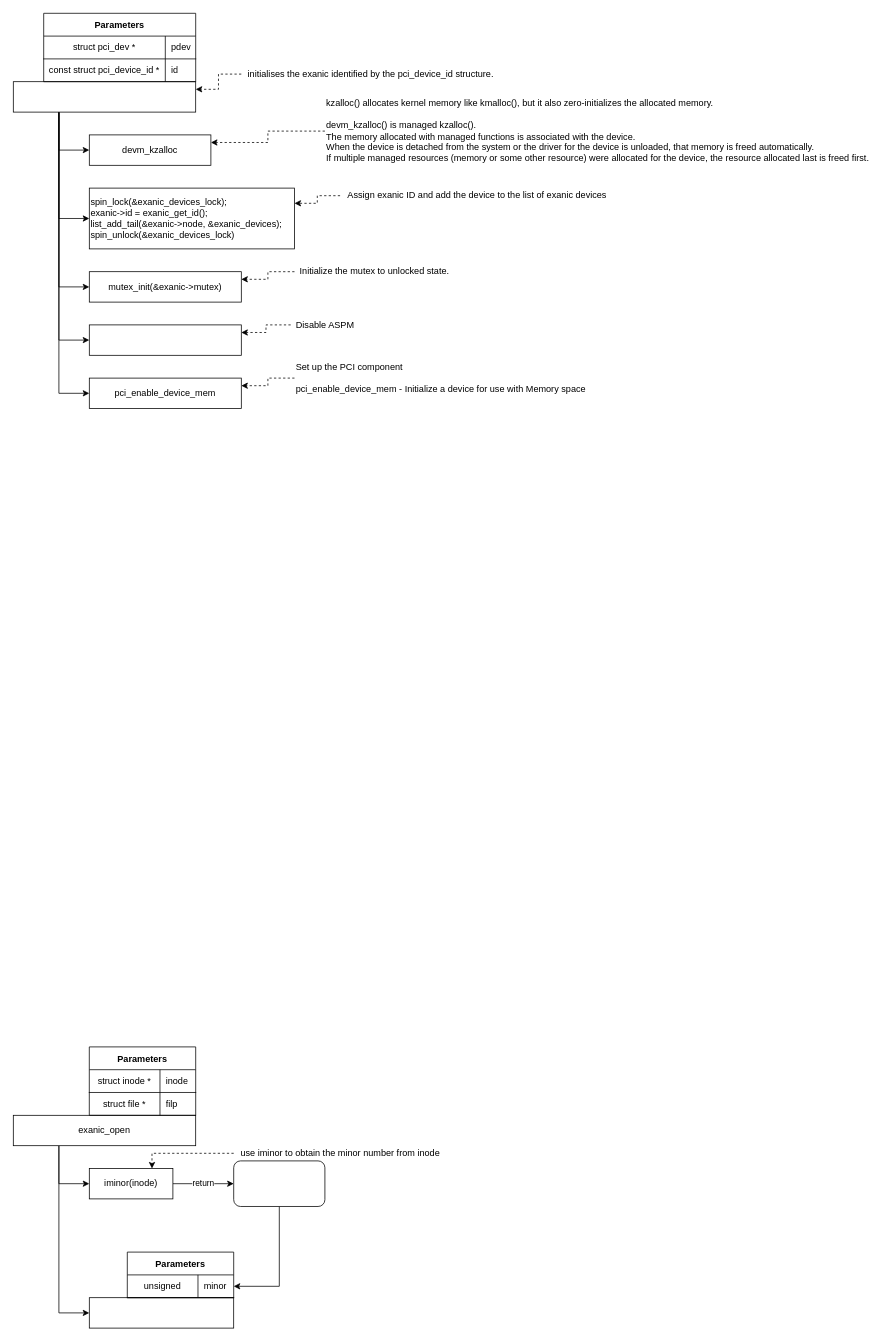
Image size: 893x1341. Some labels were removed from this diagram. The box of each missing label's shape, as (x1, y1, x2, y2) in pixels:
exanic_find_by_minor: (89, 1297, 234, 1328)
exanic_probe: (13, 81, 196, 112)
minor number: (233, 1160, 325, 1206)
pci_disable_link_state: (89, 324, 241, 355)
